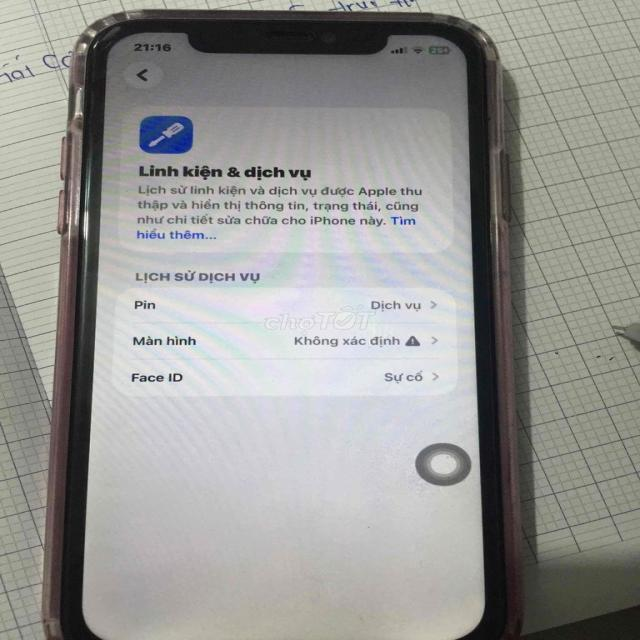gen_11: (55, 6, 510, 640)
